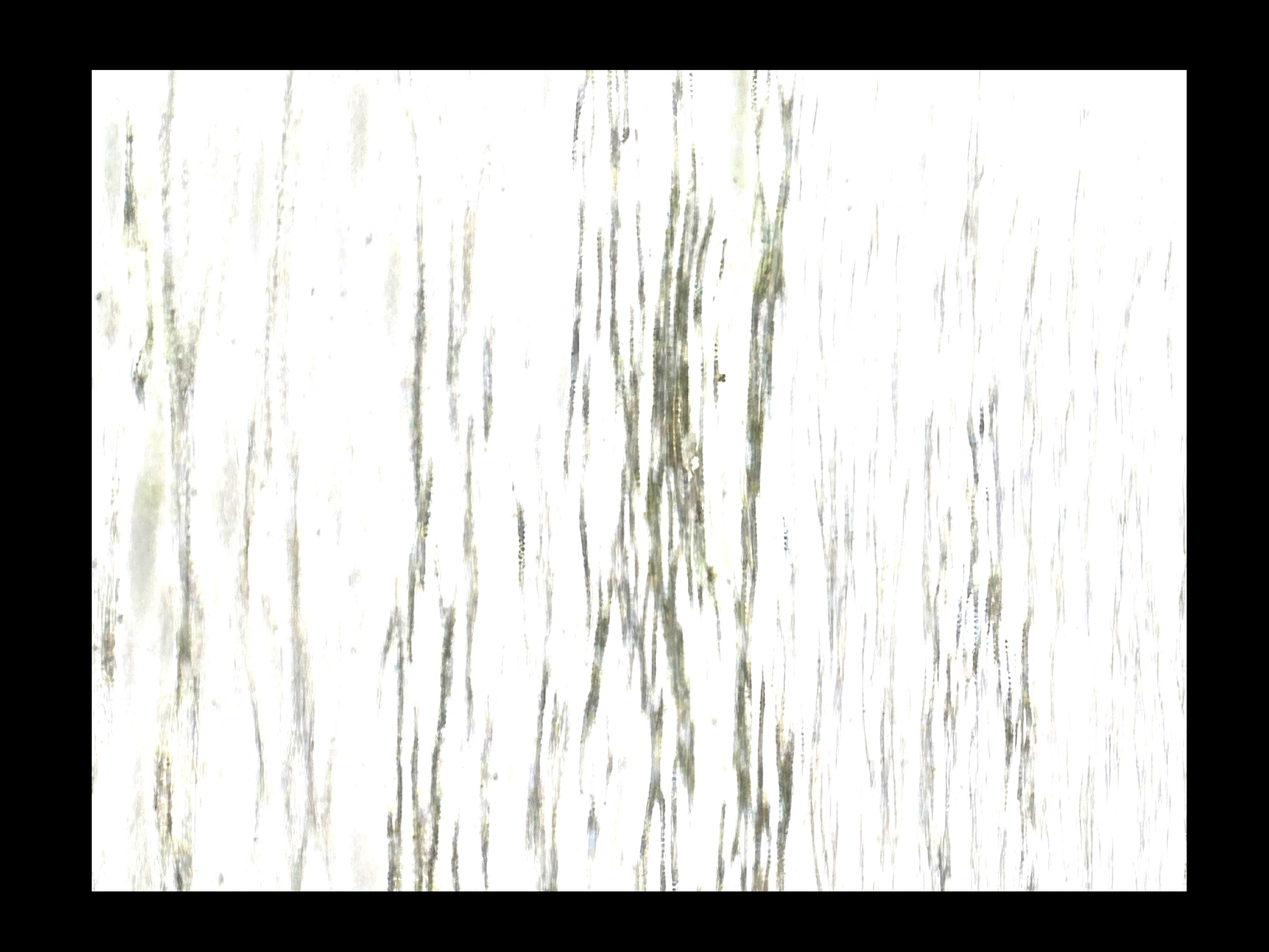Plastic wastes: (1073, 421, 1099, 466)
